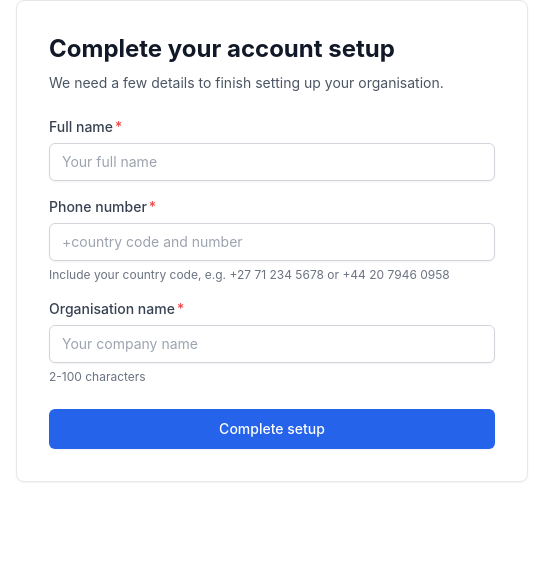
CompleteProfilePage › handles a transient status-check failure without advancing (finding 4)
In the field labelled "Full name*": (272, 162) x1=49 y1=143 x2=495 y2=181, type "Owner One"
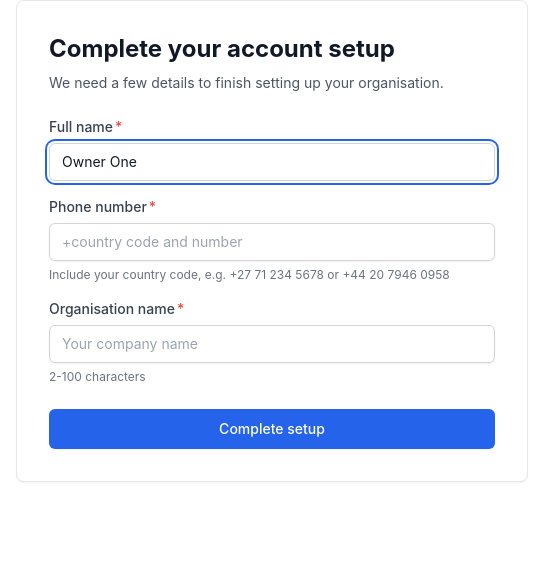
In the field labelled "Phone number*": (272, 242) x1=49 y1=223 x2=495 y2=261, type "+27 71 234 5678"
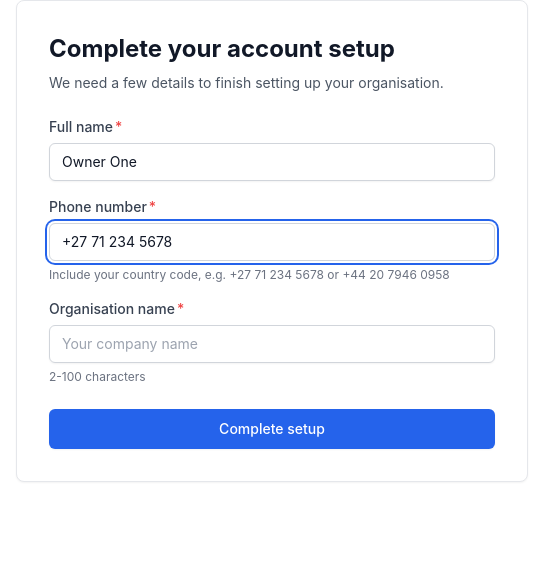
In the field labelled "Organisation name*": (272, 344) x1=49 y1=325 x2=495 y2=363, type "Acme Trading"
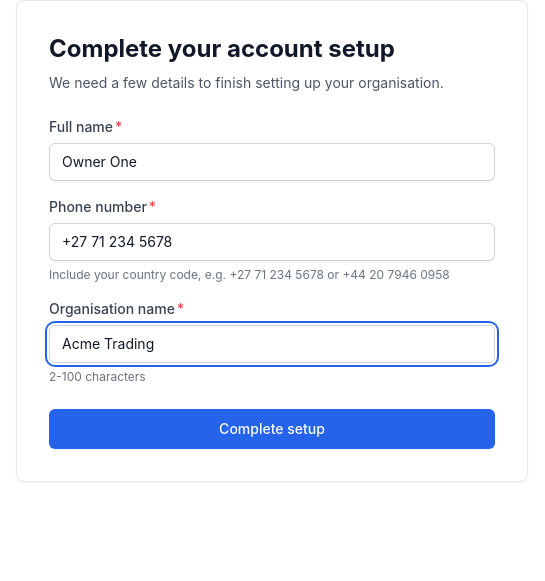
Click the button "Complete setup": (272, 429) x1=49 y1=409 x2=495 y2=449
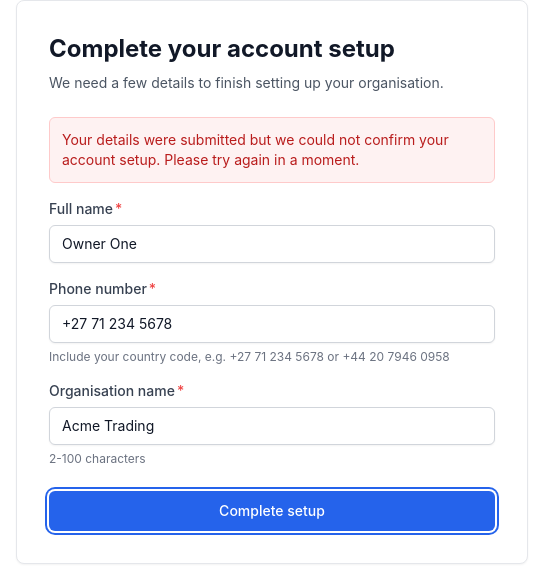
Expected: the message is shown, x1=49 y1=117 x2=495 y2=183
Expected: the message shows "could not confirm", x1=62 y1=131 x2=449 y2=168
